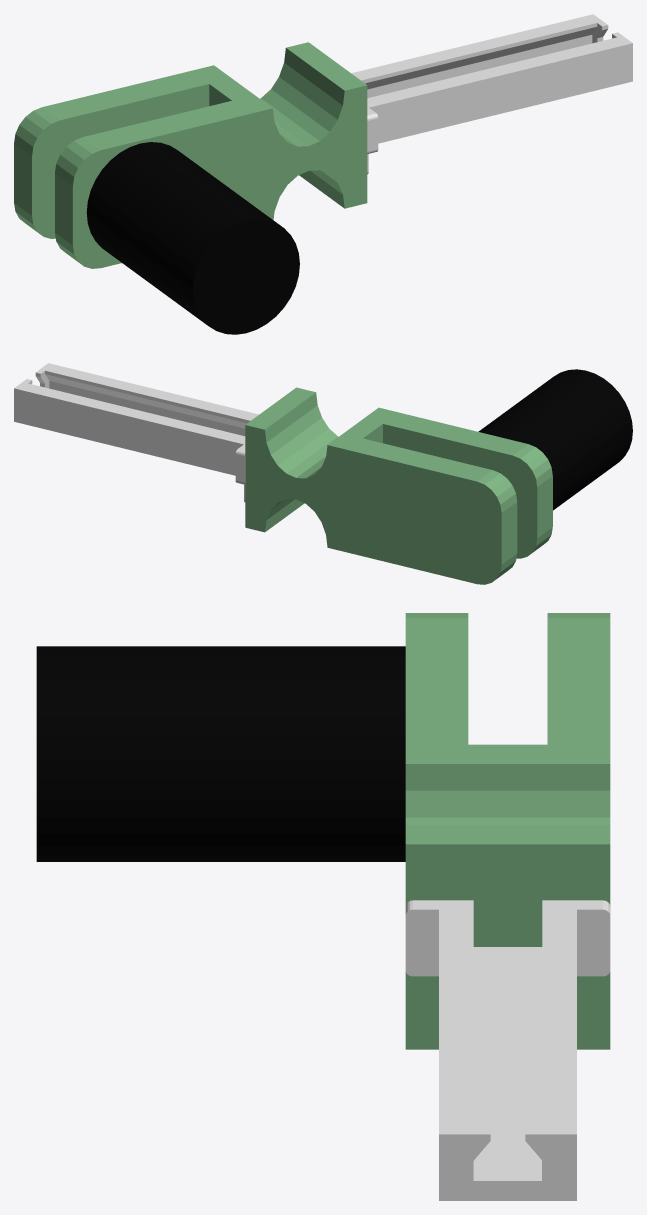
Rendered from VIS_ElasticHingePart1.dae.
The picture shows the model from 3 angles, top to bottom: view 1: azimuth 30°, elevation 25°; view 2: azimuth 150°, elevation 25°; view 3: azimuth 270°, elevation 25°; orthographic projection. The views are drawn at different scales.
Parts seen in each view (by area): view 1: VIS_ElasticHingePart1; view 2: VIS_ElasticHingePart1; view 3: VIS_ElasticHingePart1.
Part boxes in pixels (x1=…): VIS_ElasticHingePart1: x1=14, y1=14, x2=632, y2=334; VIS_ElasticHingePart1: x1=14, y1=363, x2=632, y2=584; VIS_ElasticHingePart1: x1=36, y1=613, x2=610, y2=1200.
Bounding box in the file's own units: 0.1263 × 0.0633 × 0.025.
